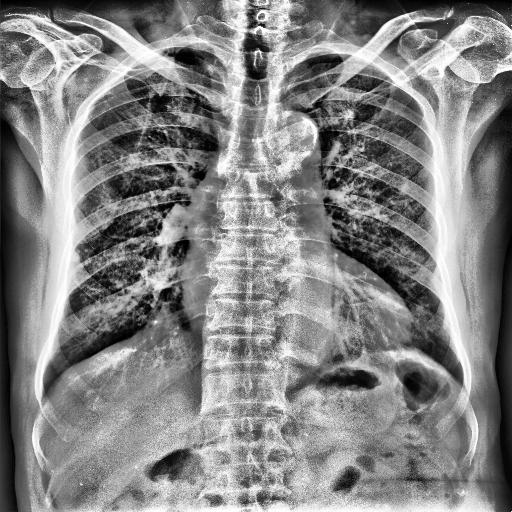0- Aortic enlargement: (258, 111, 324, 169), (260, 110, 320, 165), (264, 107, 318, 153)
11- Pleural thickening: (142, 303, 183, 336), (139, 46, 213, 64), (145, 301, 173, 331), (328, 54, 364, 62)
2- Calcification: (300, 117, 318, 150), (70, 250, 94, 268)
3- Cardiomegaly: (180, 274, 414, 358), (180, 270, 412, 353), (182, 273, 414, 348)
8- Nodule-Mass: (68, 248, 83, 264), (72, 251, 80, 262)
9- Other lesion: (142, 303, 183, 336)
